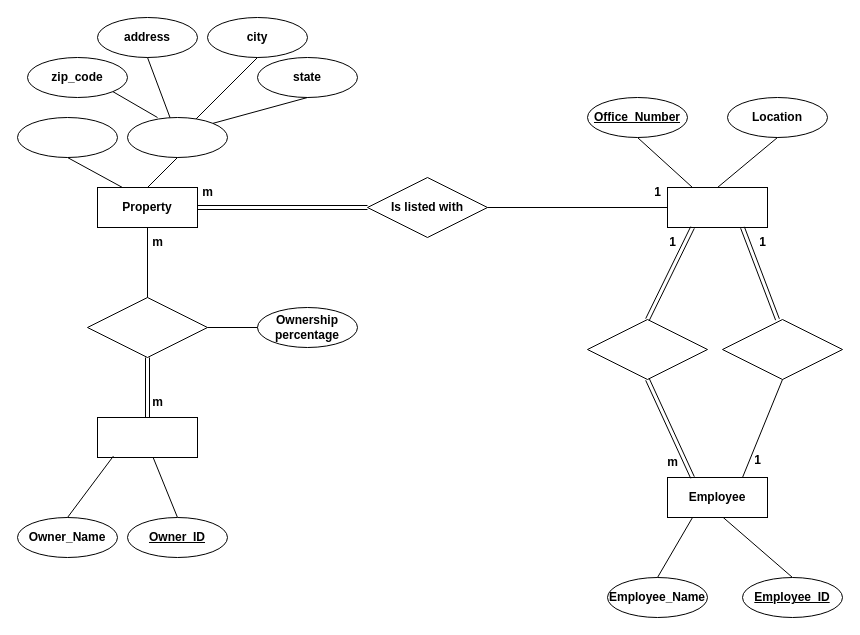
The diagram is 860 pixels wide and 635 high, and some of its shapes have lost their labels. The box of each missing label's shape, as (x1, y1, x2, y2) in pixels:
Has: (86, 296, 208, 358)
Is assigned to: (586, 318, 708, 380)
Loaction: (126, 116, 228, 158)
Manages: (722, 318, 842, 380)
Owner: (96, 416, 198, 458)
Property_ID: (16, 116, 118, 158)
sales office: (666, 186, 768, 228)
